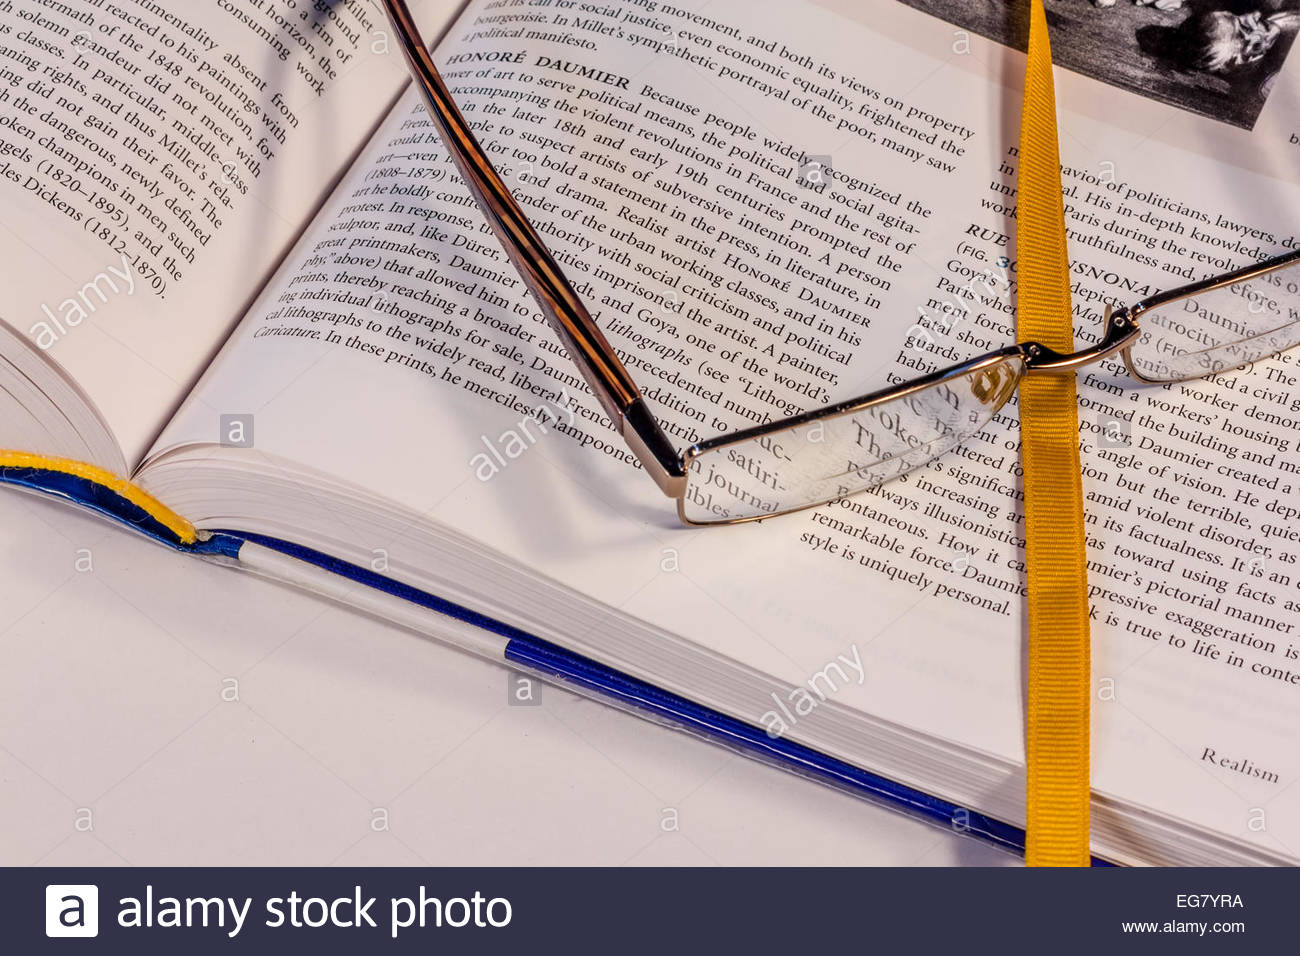Open Book: (2, 2, 1297, 859)
